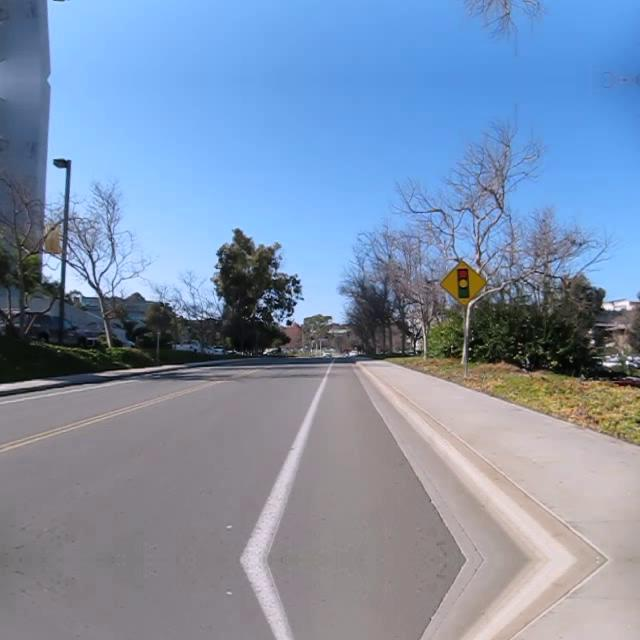signalAhead: (438, 258, 488, 306)
